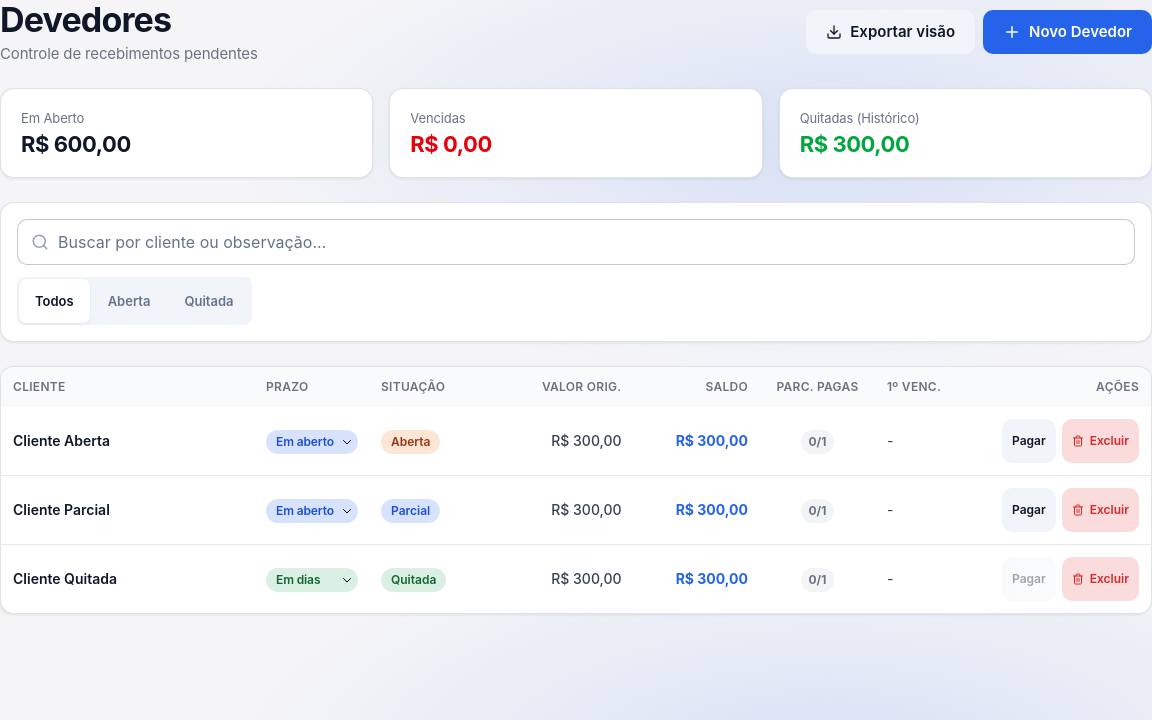
Test: Debtors page integration › filters debtors by status when clicking status tabs (Aberta covers both open and partial)
Expected: the text "Cliente Aberta" is shown, [1, 407, 254, 476]
Expected: the text "Cliente Parcial" is shown, [1, 476, 254, 545]
# Click "Aberta" tab (shows both Aberta and Parcial)
Click the button "Aberta" at point(129, 301), box [92, 279, 166, 323]
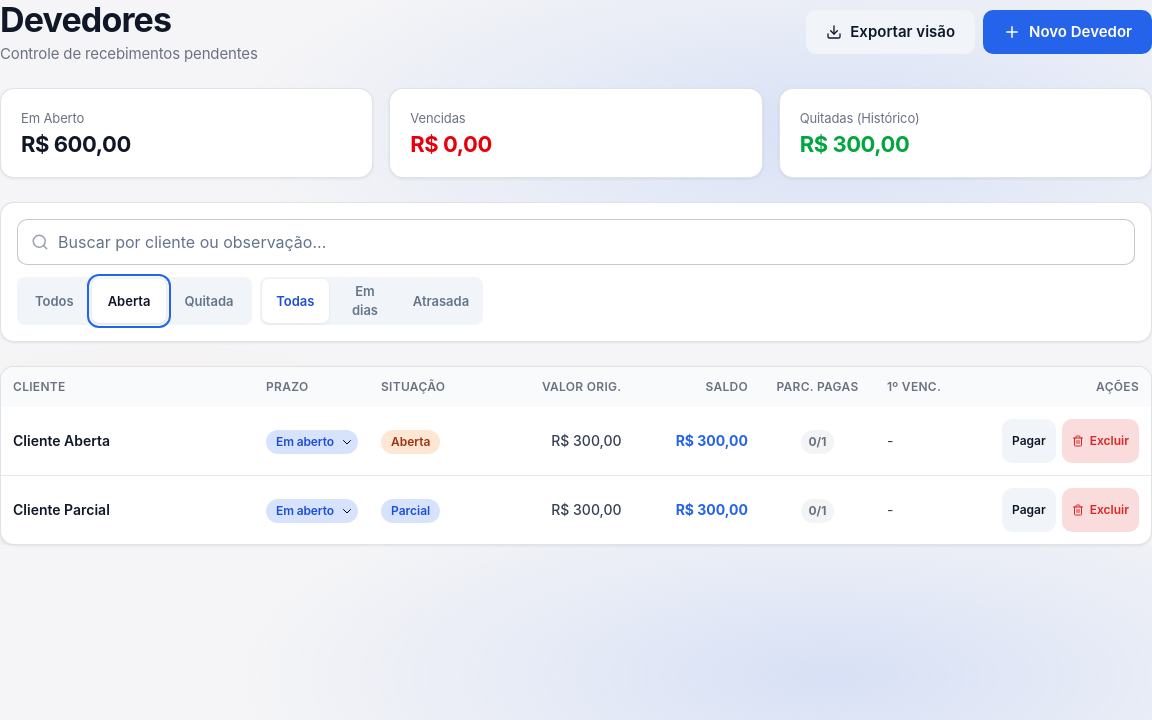
Expected: the text "Cliente Aberta" is shown, [1, 407, 254, 476]
Now the text "Cliente Quitada" is gone
# Click "Quitada" tab
Click the button "Quitada" at point(209, 301), box [168, 279, 250, 323]
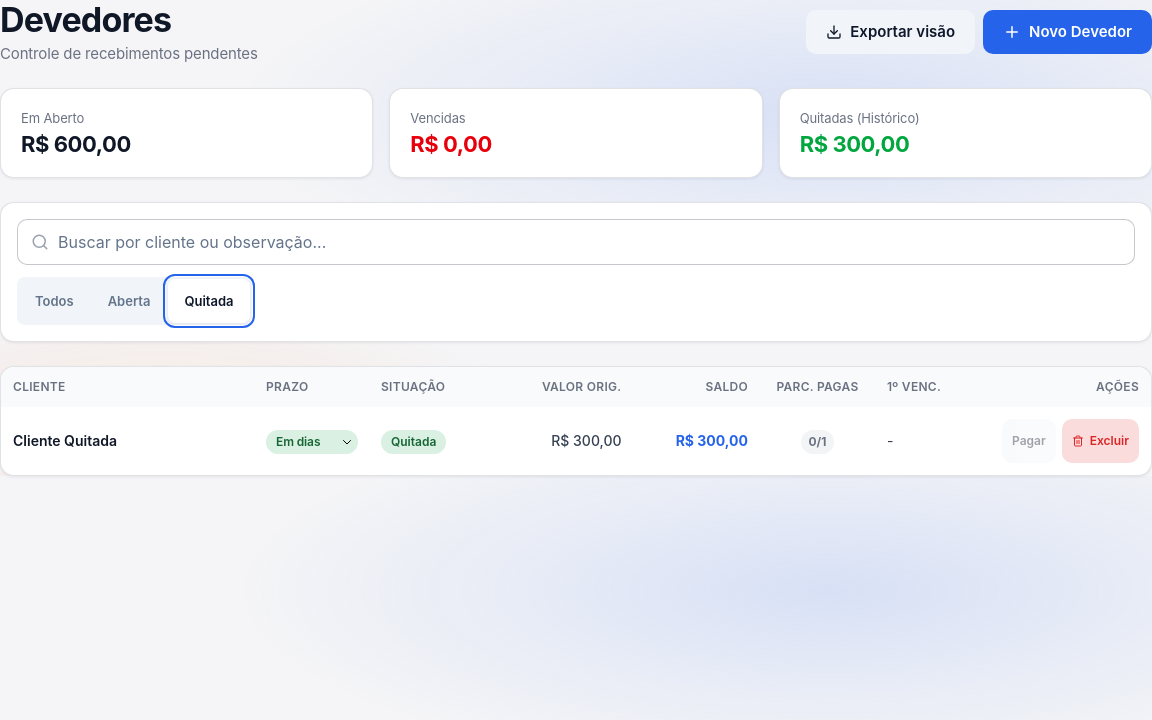
Now the text "Cliente Aberta" is gone
Now the text "Cliente Parcial" is gone
Now the text "Cliente Quitada" is shown, box [1, 407, 254, 475]
Click the button "Todos" at point(54, 301), box [19, 279, 90, 323]
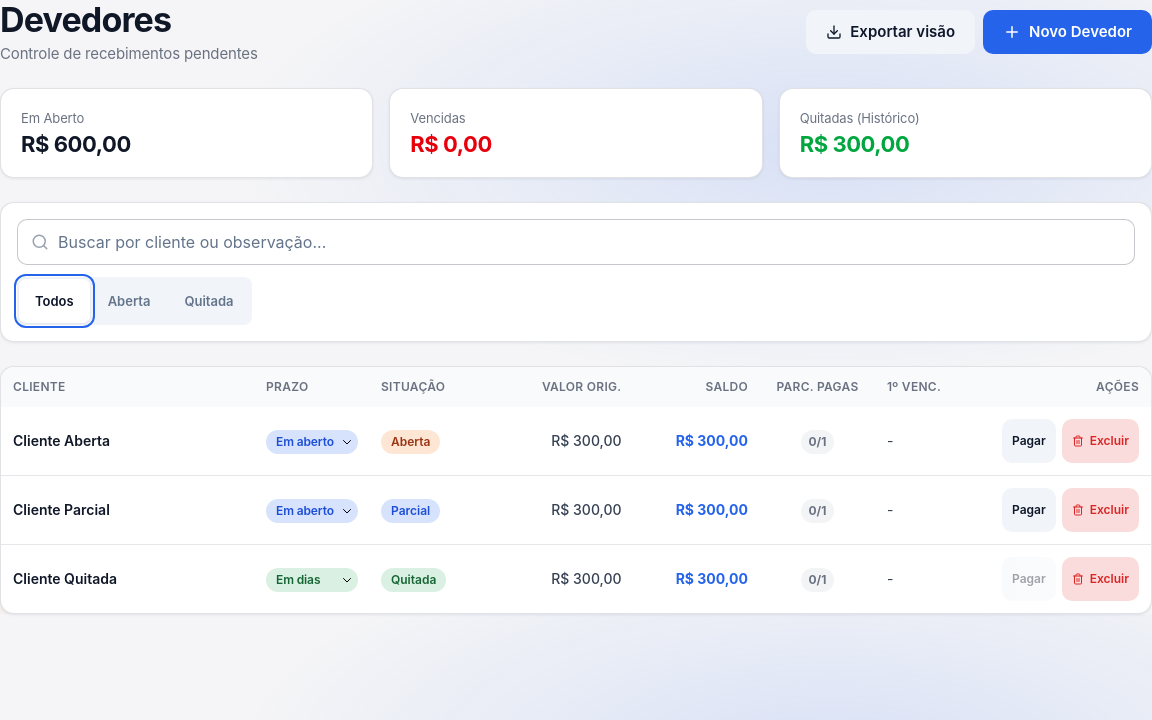
Now the text "Cliente Quitada" is shown, box [1, 545, 254, 613]
Now the text "Cliente Aberta" is shown, box [1, 407, 254, 476]
Now the text "Cliente Parcial" is shown, box [1, 476, 254, 545]
